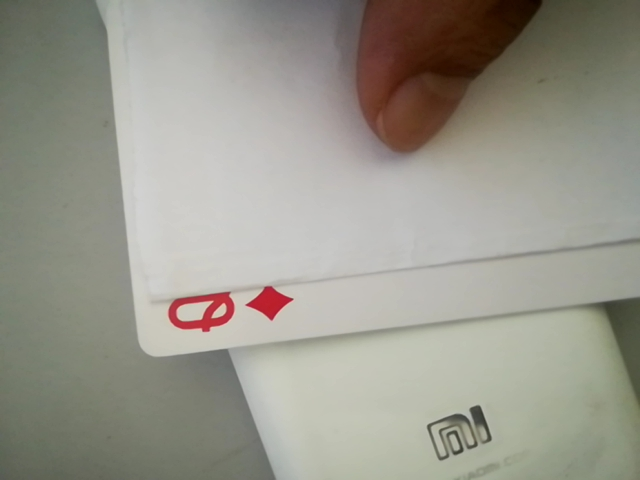fk q: (152, 283, 284, 344)
